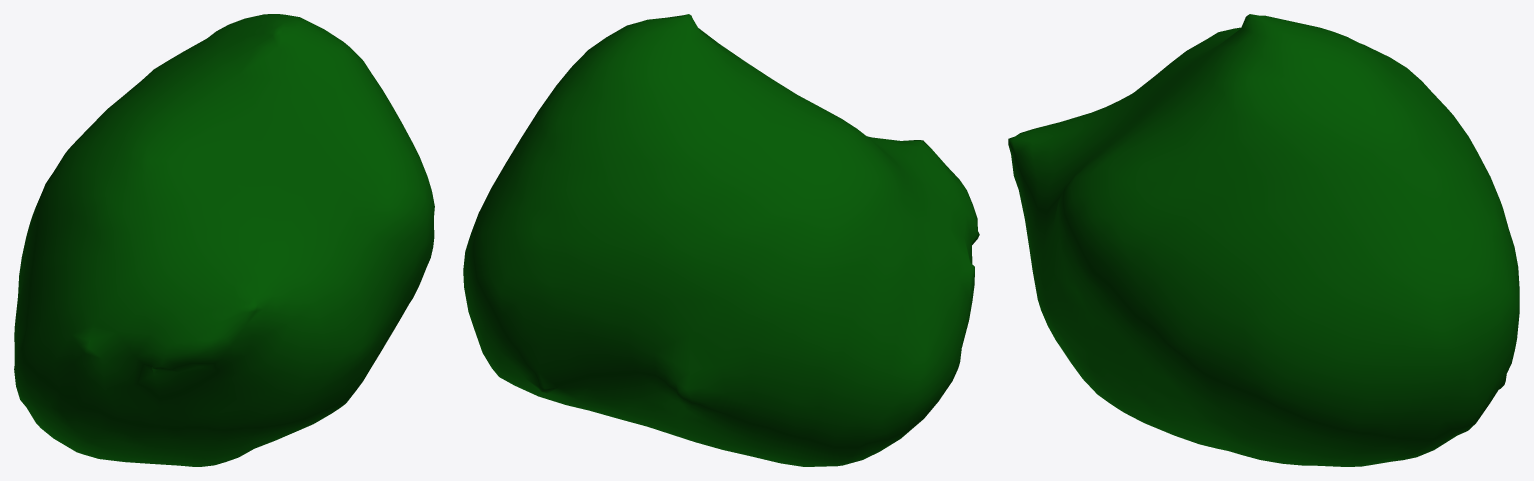
The model's file is Lesion.obj.
3 views of the same model, side by side, from view 1: azimuth 30°, elevation 25°; view 2: azimuth 150°, elevation 25°; view 3: azimuth 270°, elevation 25° (orthographic). The views are drawn at different scales.
Parts seen in each view (by area): view 1: grp1; view 2: grp1; view 3: grp1.
Boxes of the visible parts, left/top/right/bottom form: grp1: left=14, top=14, right=434, bottom=466; grp1: left=463, top=14, right=979, bottom=466; grp1: left=1008, top=14, right=1519, bottom=466.
Size of the model in its own units: 15.35 by 14.43 by 14.42.
